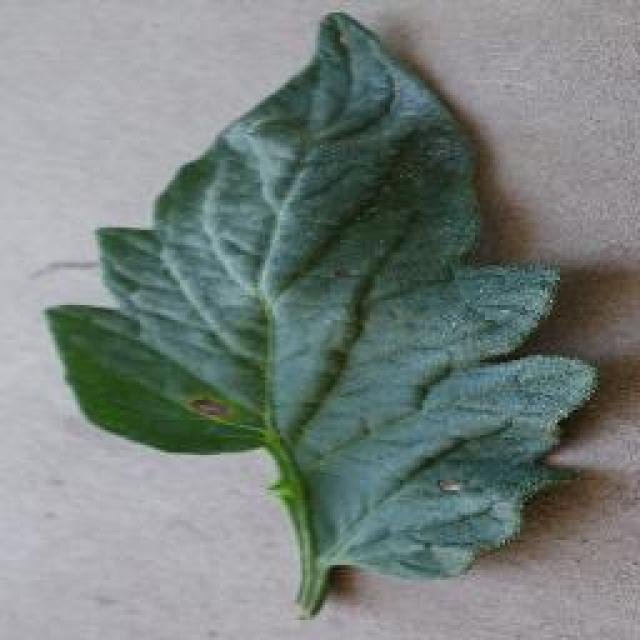Tomato___Early_blight: (47, 10, 603, 615)
